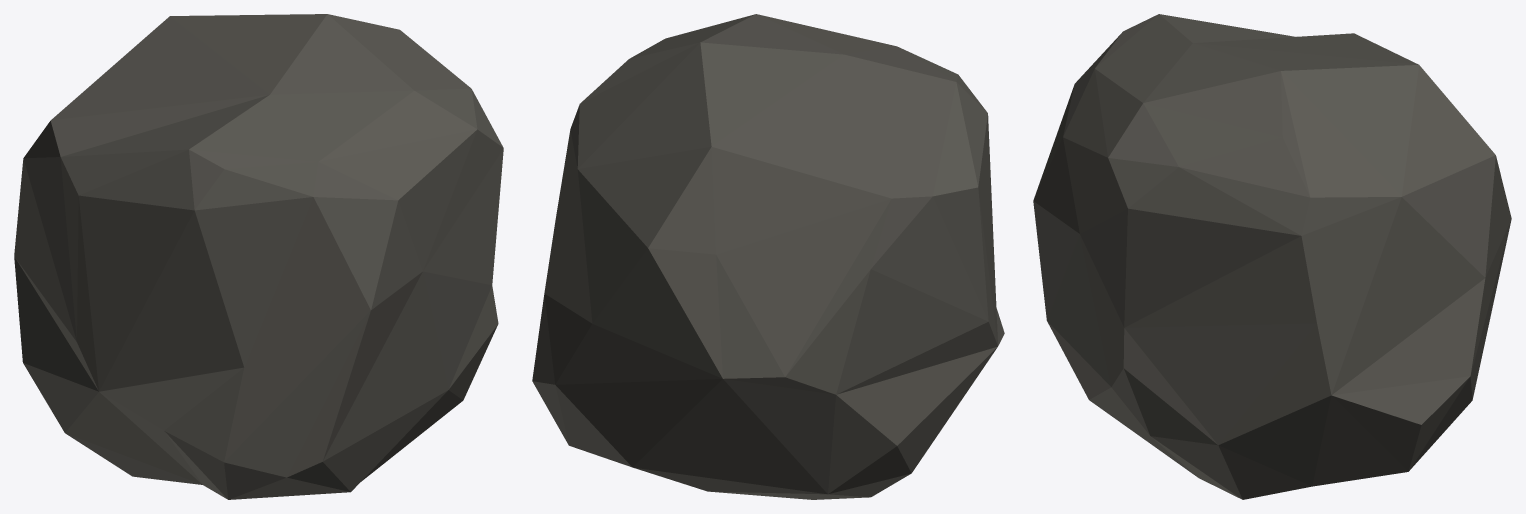
File: Rock_Simple.fbx
The picture shows the model from 3 angles, left to right: view 1: azimuth 30°, elevation 25°; view 2: azimuth 150°, elevation 25°; view 3: azimuth 270°, elevation 25°; orthographic projection. The views are drawn at different scales.
Parts seen in each view (by area): view 1: Rock_Basic; view 2: Rock_Basic; view 3: Rock_Basic.
Part boxes in pixels (x1,y1,x2,y2): Rock_Basic: [14, 14, 503, 499]; Rock_Basic: [532, 14, 1004, 499]; Rock_Basic: [1033, 14, 1511, 499].
Size of the model in its own units: 747 by 765 by 793.
